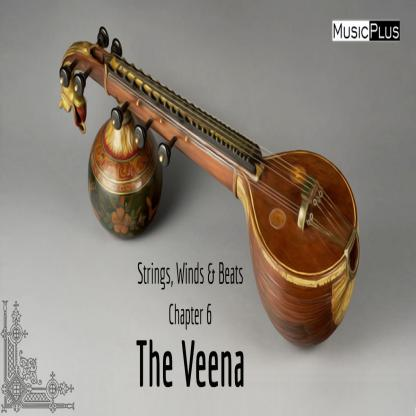Veena: (122, 76, 360, 311)
